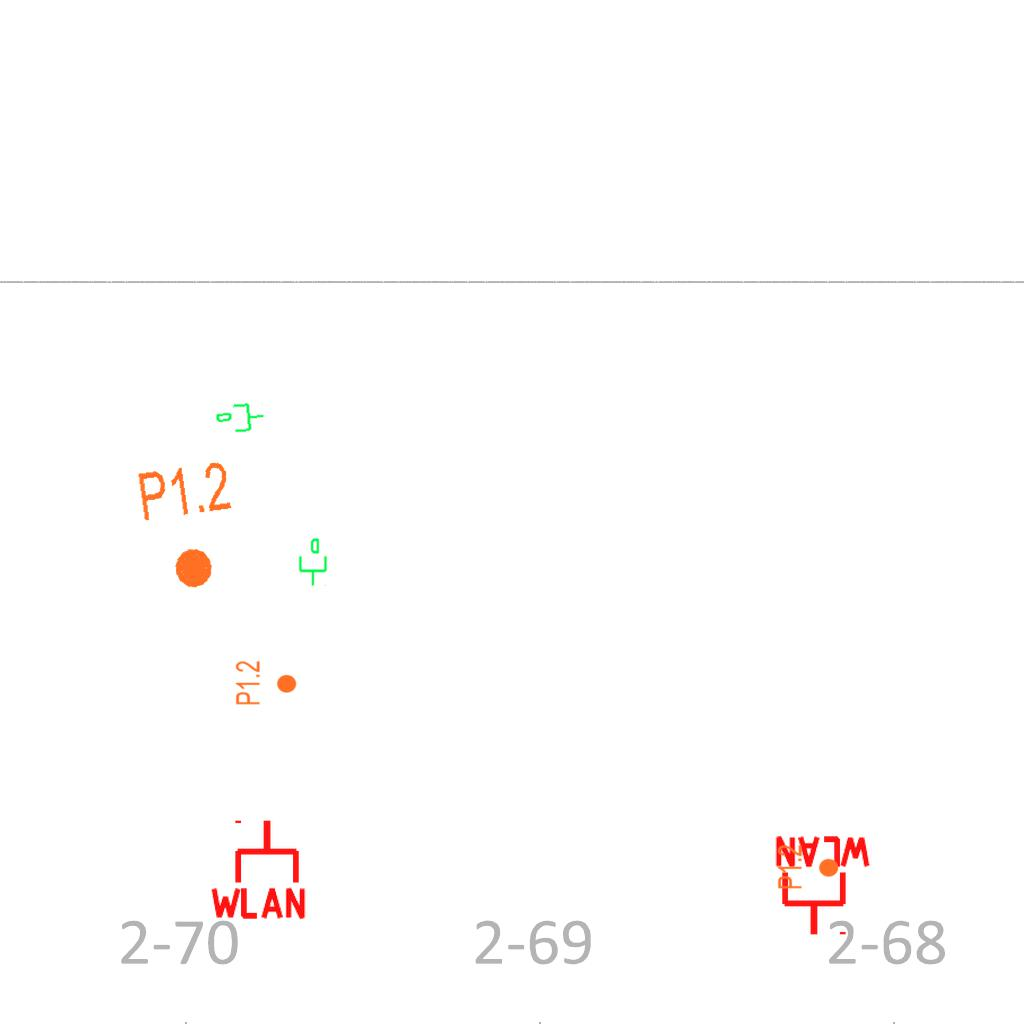Datenanschluss_einfach: (213, 399, 267, 439), (295, 537, 329, 587)
Downlight_LED_Einbauleuchten_Flur: (134, 457, 245, 597), (234, 660, 298, 706), (776, 844, 840, 890)
WLAN: (771, 834, 875, 939), (206, 816, 310, 921)
